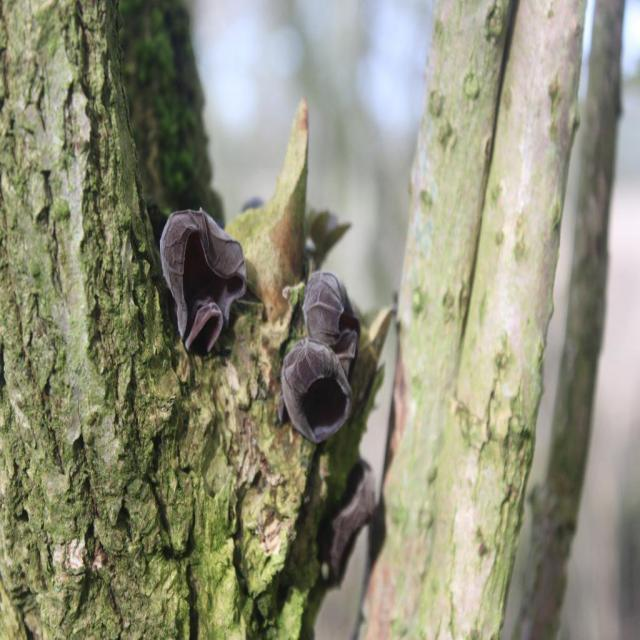Auricularia auricula: (161, 205, 246, 356), (284, 274, 360, 441)
